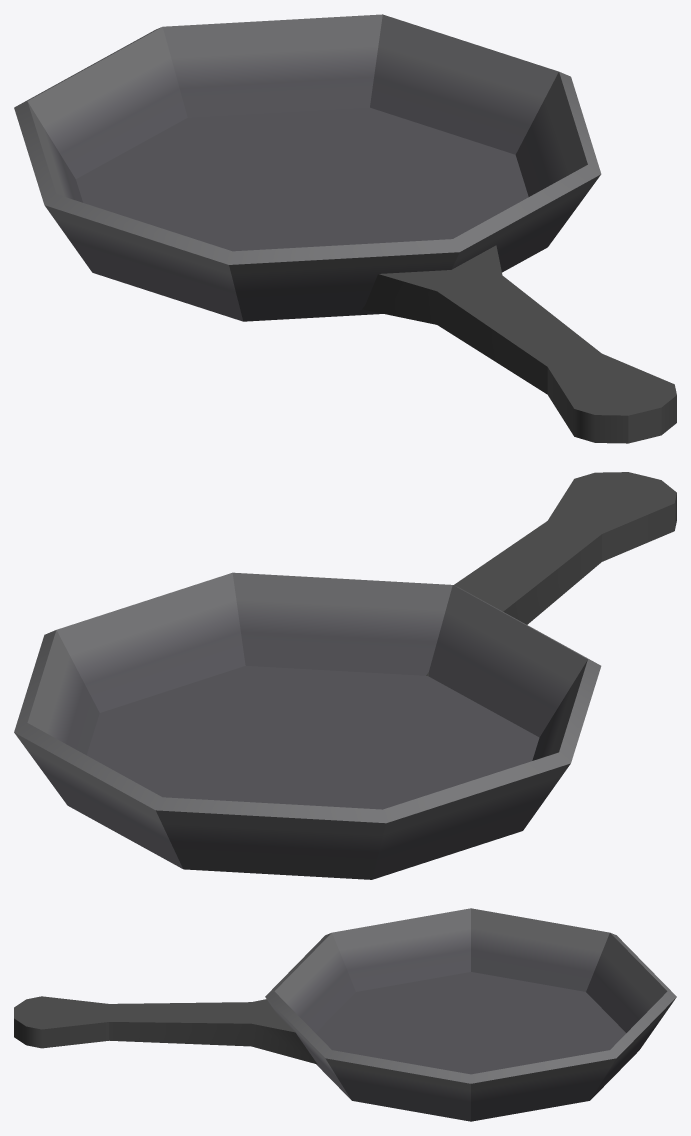
File: Pan.fbx
3 renders of one model, top to bottom at view 1: azimuth 30°, elevation 25°; view 2: azimuth 150°, elevation 25°; view 3: azimuth 270°, elevation 25°, orthographic. The views are drawn at different scales.
Parts seen in each view (by area): view 1: Pan; view 2: Pan; view 3: Pan.
Boxes of the visible parts, x1,y1,x2,y2 form: Pan: (14,14,676,443); Pan: (14,472,676,879); Pan: (14,908,676,1121).
Bounding box in the file's own units: 66.4 × 10.52 × 107.
Materials: 1 (1 with a texture image).
